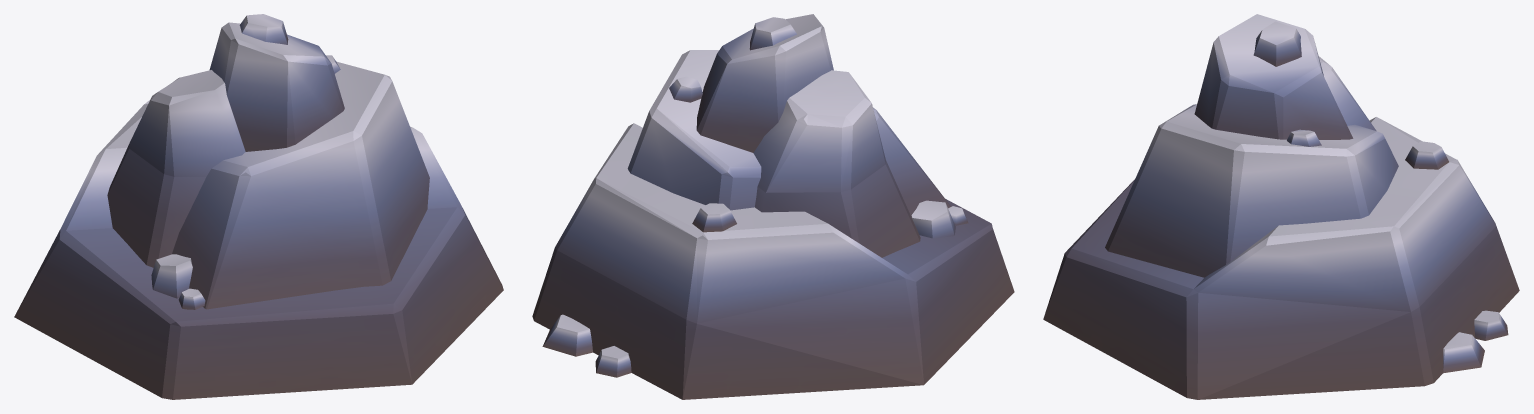
The model's file is block_mountain_1_4.fbx.
3 renders of one model, left to right at view 1: azimuth 30°, elevation 25°; view 2: azimuth 150°, elevation 25°; view 3: azimuth 270°, elevation 25°, orthographic. The views are drawn at different scales.
Visible parts, largest first — view 1: block_mountain_1_4; view 2: block_mountain_1_4; view 3: block_mountain_1_4.
Boxes of the visible parts, x1,y1,x2,y2 form: block_mountain_1_4: (14,14,503,399); block_mountain_1_4: (532,14,1014,399); block_mountain_1_4: (1043,14,1519,399).
Bounding box in the file's own units: 108 × 73.89 × 115.
